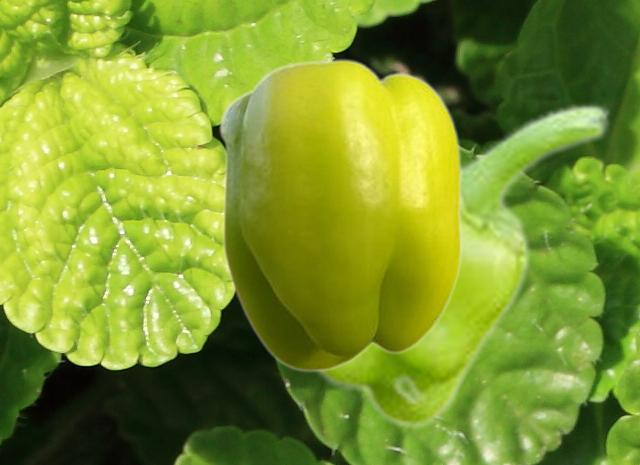bell_pepper: (313, 101, 611, 429), (218, 57, 461, 371)
